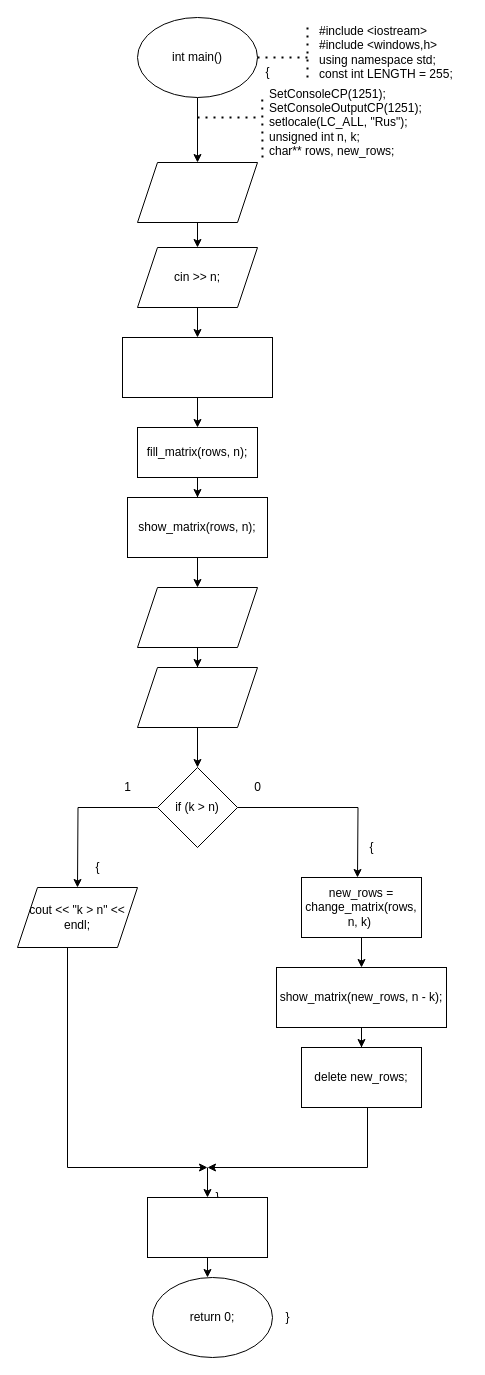
Some shapes in this 485 by 1375 pixel diagram are drawn without their labels. The shapes that lost their labels are listed below. From the top down, each one's centre as x and y in pixels, then its label:
(197,192): cout << "Введите размерность матриц: ";
(197,367): rows = create_matrix(n);
(197,617): cout << "Введите сколько строк удалить (n > k): ";
(197,697): cin >> k;
(207,1227): delete_matrix(rows,n);
